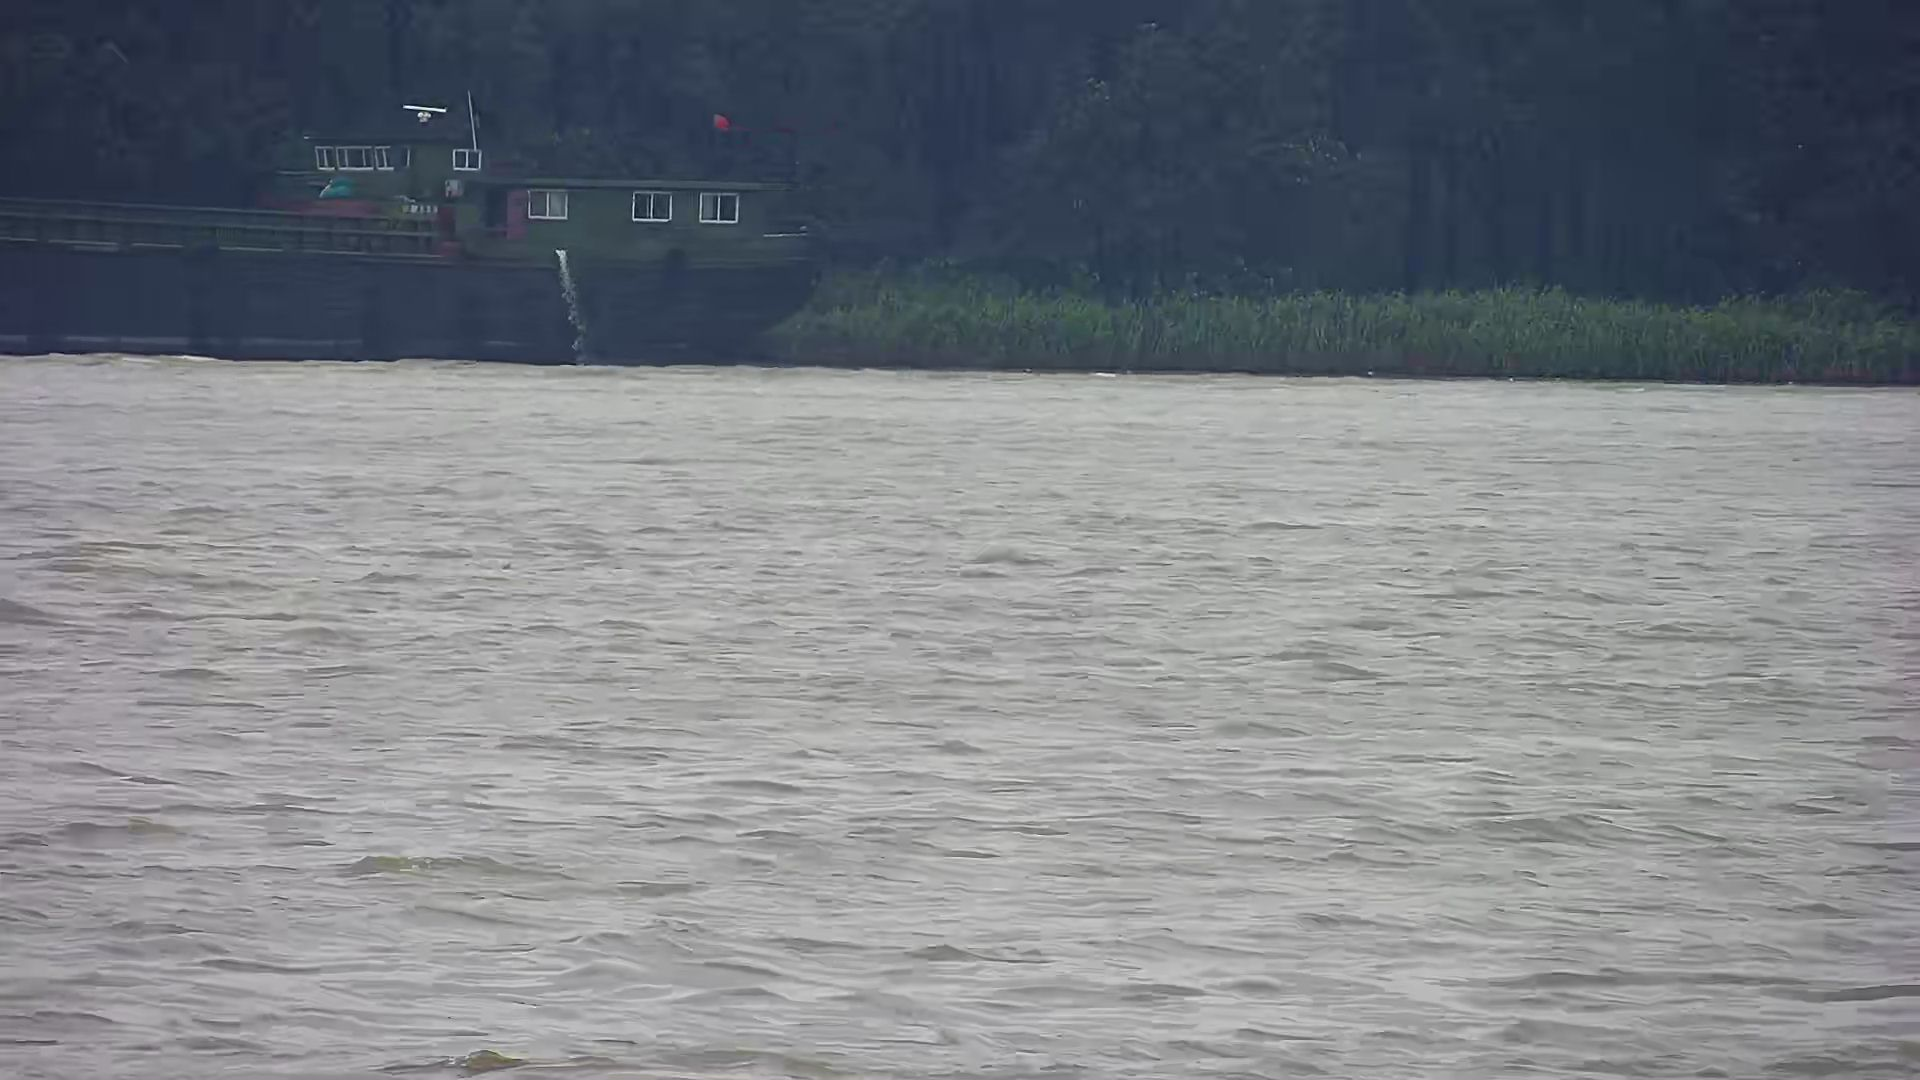ship: (3, 82, 823, 396)
